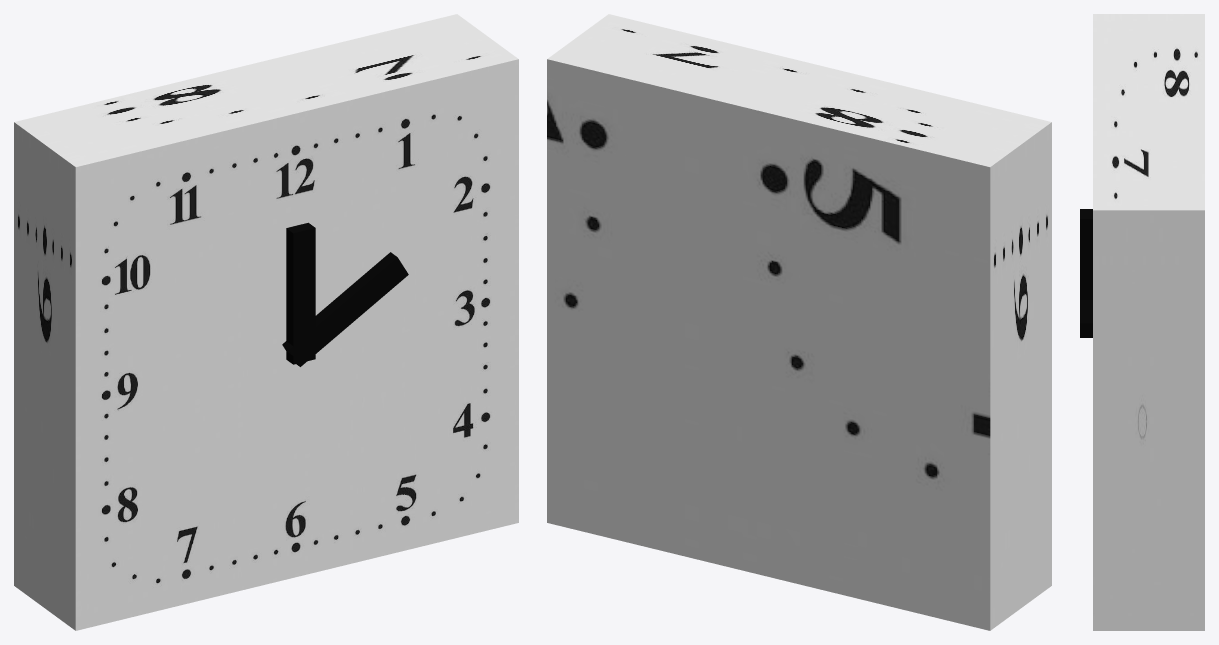
File: reloj.obj
3 renders of one model, left to right at view 1: azimuth 30°, elevation 25°; view 2: azimuth 150°, elevation 25°; view 3: azimuth 270°, elevation 25°, orthographic. The views are drawn at different scales.
Visible parts, largest first — view 1: Cube.002; view 2: Cube.002; view 3: Cube.002.
Part boxes in pixels (x1,y1,x2,y2): Cube.002: (14,14,518,630); Cube.002: (547,14,1051,630); Cube.002: (1080,14,1204,630).
Size of the model in its own units: 2 by 2 by 0.5381.
2 materials, 2 textured.
